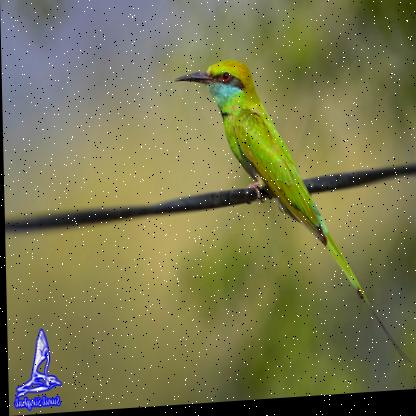Burung: (175, 52, 412, 383)
